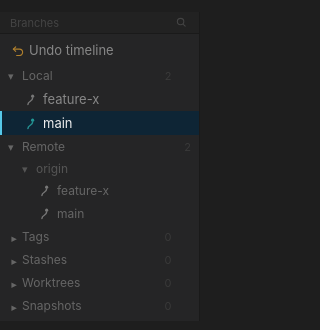
Scenario: BranchPane — origin group toggle › collapses and re-expands an origin group on header click
Expected: the text "feature-x" is shown 2 times, [43,91,99,107]; [57,183,109,198]
collapse the origin group — remote copy disappears
Click the text "origin" at (52, 168), box [36,161,68,176]
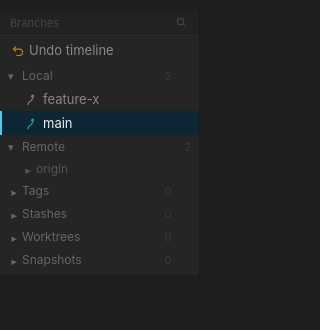
Expected: the text "feature-x" is shown once, [43,91,99,107]
expand again — remote copy is back
Click the text "origin" at (52, 168), box [36,161,68,176]
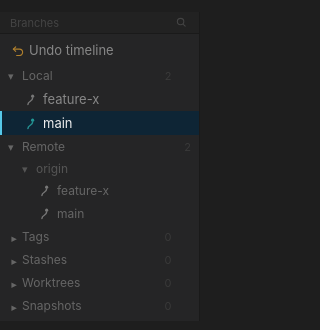
Expected: the text "feature-x" is shown 2 times, [43,91,99,107]; [57,183,109,198]
